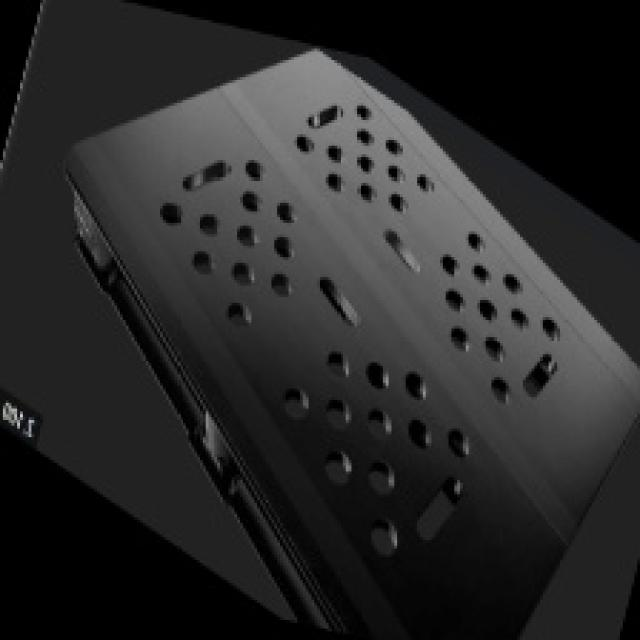igps: (54, 40, 640, 640)
